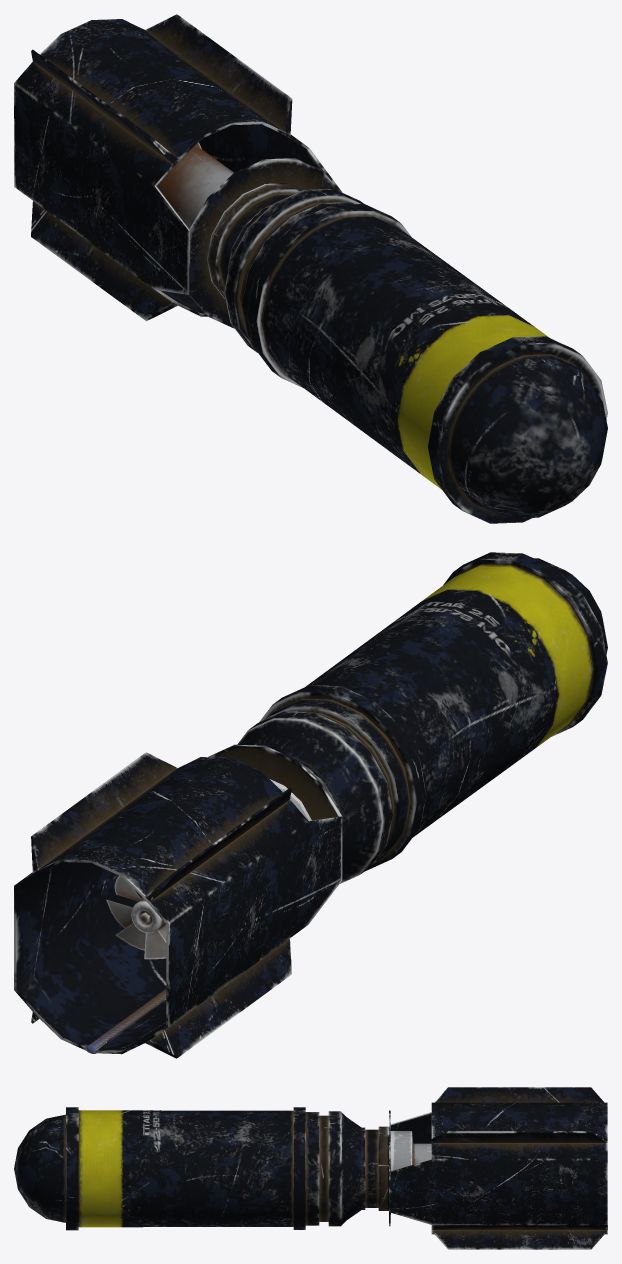
File: Bomba.fbx
The picture shows the model from 3 angles, top to bottom: view 1: azimuth 30°, elevation 25°; view 2: azimuth 150°, elevation 25°; view 3: azimuth 270°, elevation 25°; orthographic projection. The views are drawn at different scales.
Parts seen in each view (by area): view 1: body_low; view 2: body_low; view 3: body_low.
Part boxes in pixels (x1,y1,x2,y2): body_low: (14, 14, 607, 523); body_low: (14, 552, 607, 1058); body_low: (14, 1087, 607, 1249).
Size of the model in its own units: 220 by 240 by 1060.
